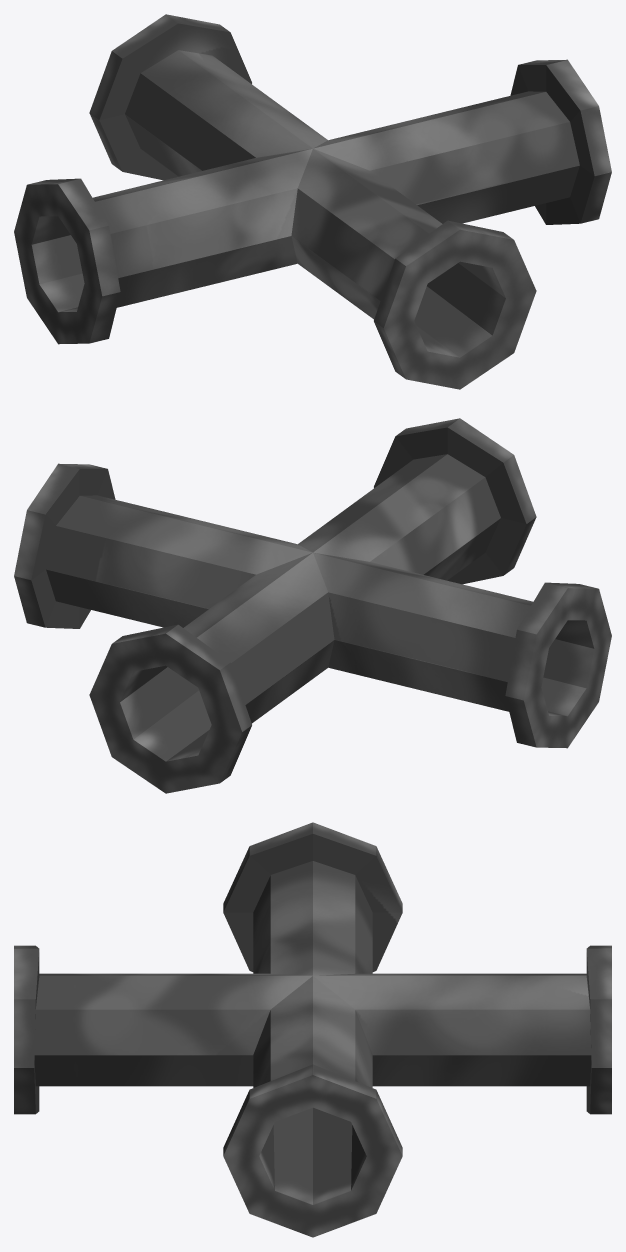
3 views of the same model, one above another, from view 1: azimuth 30°, elevation 25°; view 2: azimuth 150°, elevation 25°; view 3: azimuth 270°, elevation 25° (orthographic).
Visible parts, largest first — view 1: Pipe4-2; view 2: Pipe4-2; view 3: Pipe4-2.
Part boxes in pixels (x1,y1,x2,y2): Pipe4-2: [14, 14, 611, 389]; Pipe4-2: [14, 418, 611, 793]; Pipe4-2: [14, 822, 611, 1237].
Bounding box in the file's own units: 10 × 3 × 10.
1 material, 1 textured.
